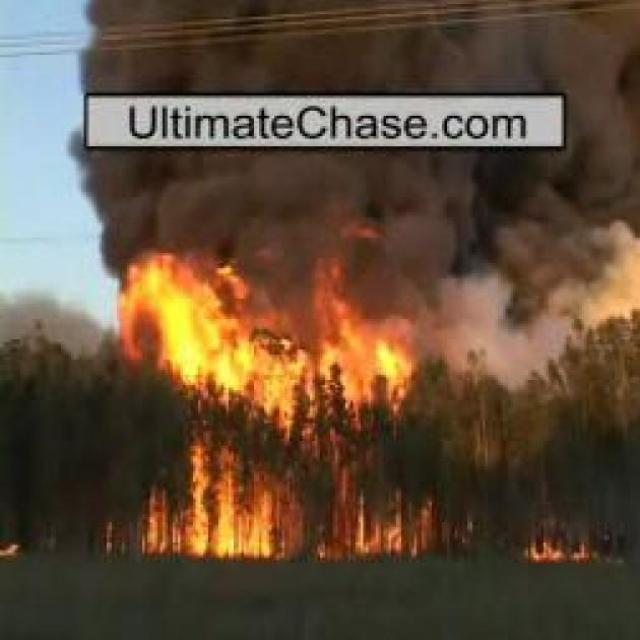Fire: (130, 239, 438, 565), (531, 534, 599, 564)
